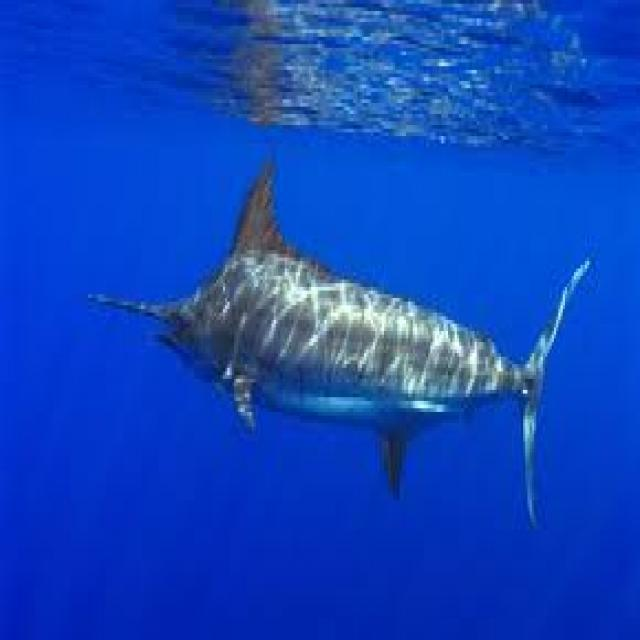Blue Marlin: (70, 158, 596, 530)
